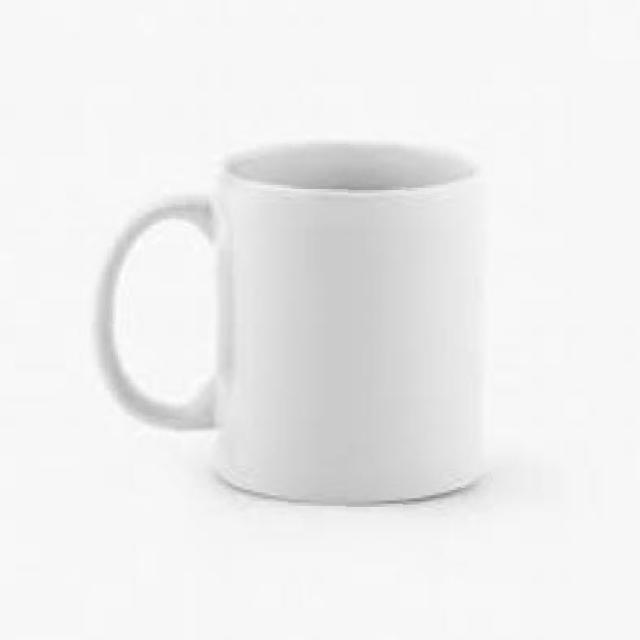cup: (85, 129, 495, 521)
